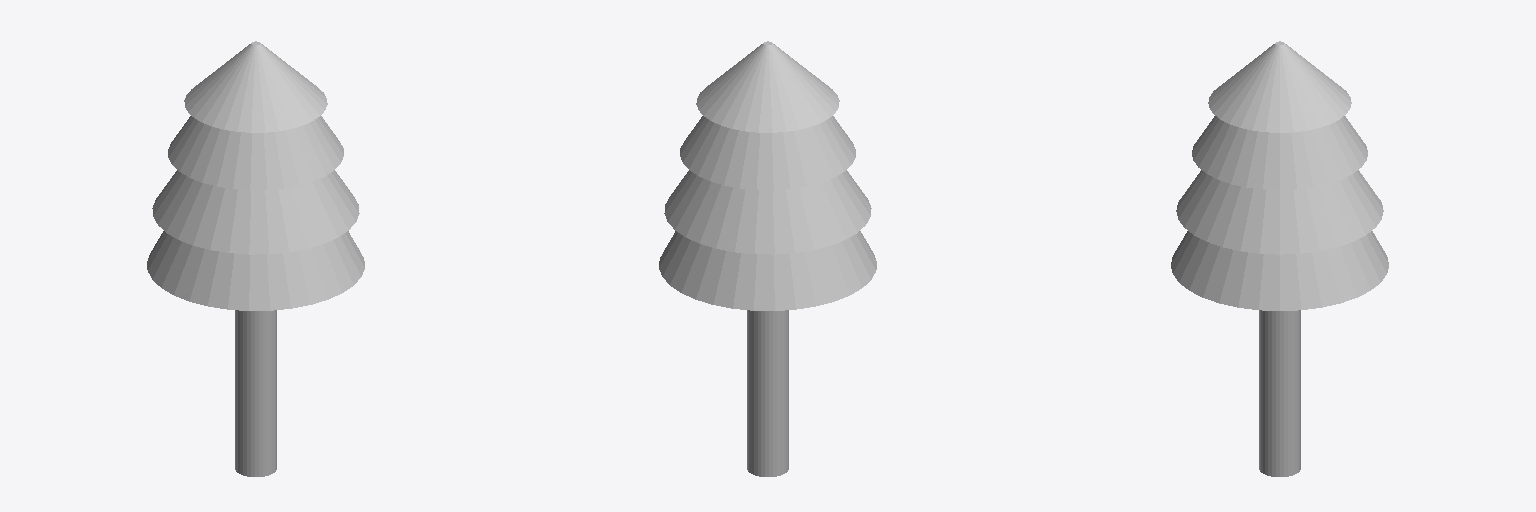
Rendered from Tree.obj.
3 renders of one model, left to right at view 1: azimuth 30°, elevation 25°; view 2: azimuth 150°, elevation 25°; view 3: azimuth 270°, elevation 25°, orthographic.
Visible parts, largest first — view 1: Tree_Cylinder; view 2: Tree_Cylinder; view 3: Tree_Cylinder.
Boxes of the visible parts, x1,y1,x2,y2 form: Tree_Cylinder: [147, 41, 364, 476]; Tree_Cylinder: [659, 41, 876, 476]; Tree_Cylinder: [1171, 41, 1388, 476].
Bounding box in the file's own units: 5.73 × 12.3 × 5.73.